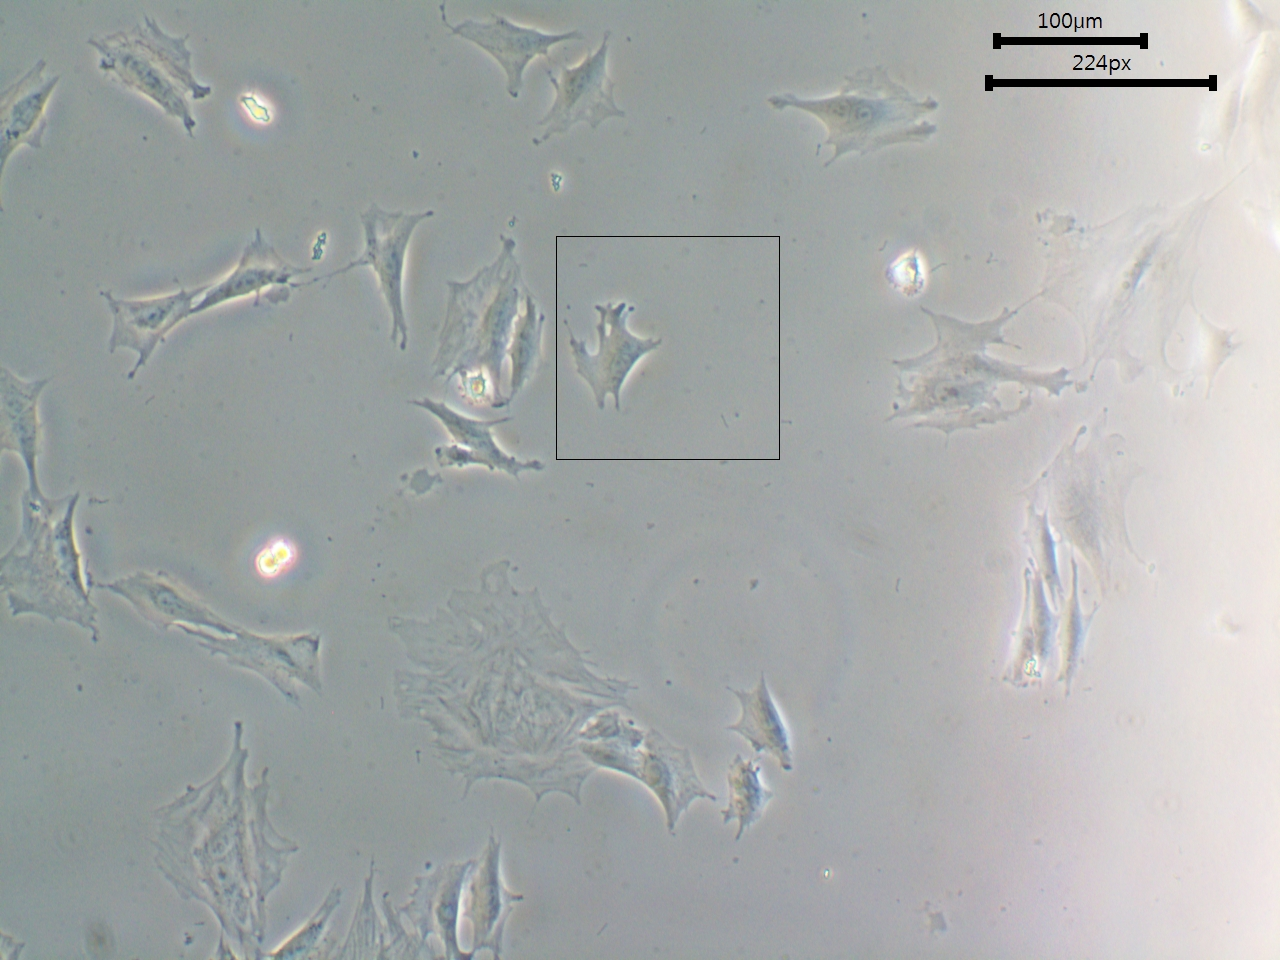dividing: (773, 63, 952, 174)
medium-polygonal: (101, 560, 335, 720), (539, 17, 640, 162), (587, 722, 716, 828), (440, 6, 583, 102), (348, 197, 434, 350), (185, 220, 314, 319), (90, 282, 217, 380), (411, 398, 554, 485)
medium-spread: (377, 557, 630, 821), (887, 308, 1092, 449), (74, 4, 220, 144)
small-polygonal: (562, 294, 663, 417), (717, 662, 813, 776), (463, 838, 527, 960), (699, 756, 789, 840), (1016, 501, 1075, 612)
